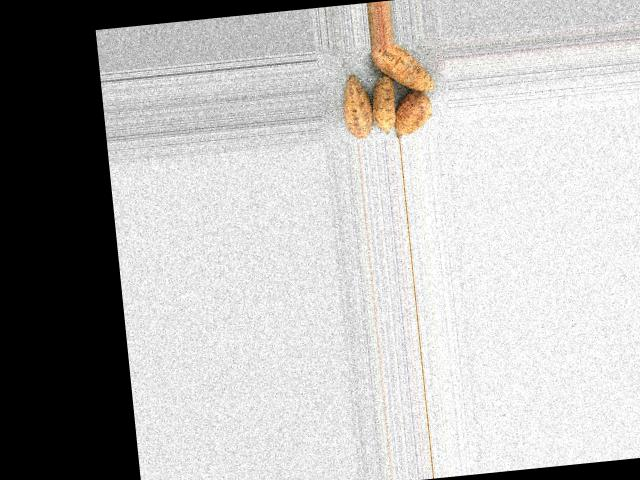sweet_potato: (363, 38, 440, 96)
